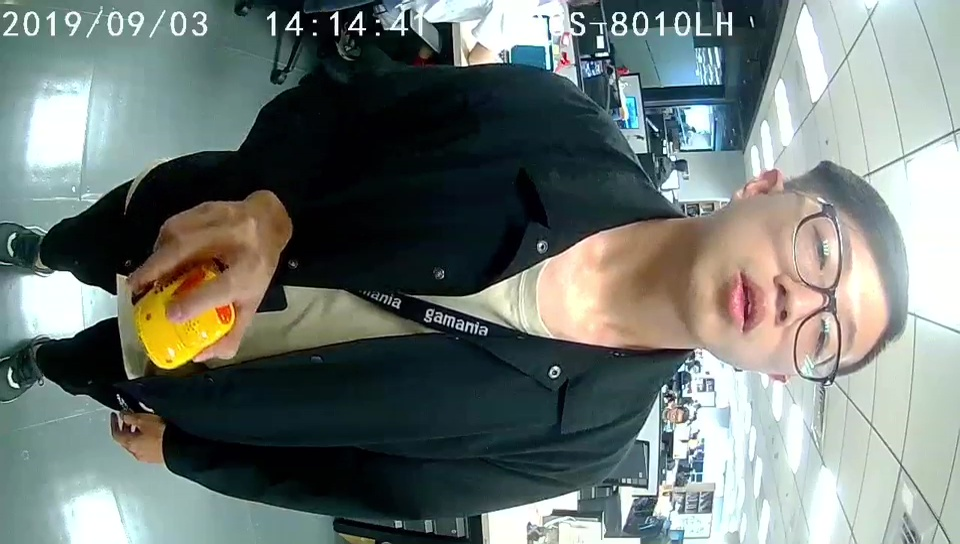car: (137, 268, 236, 368)
